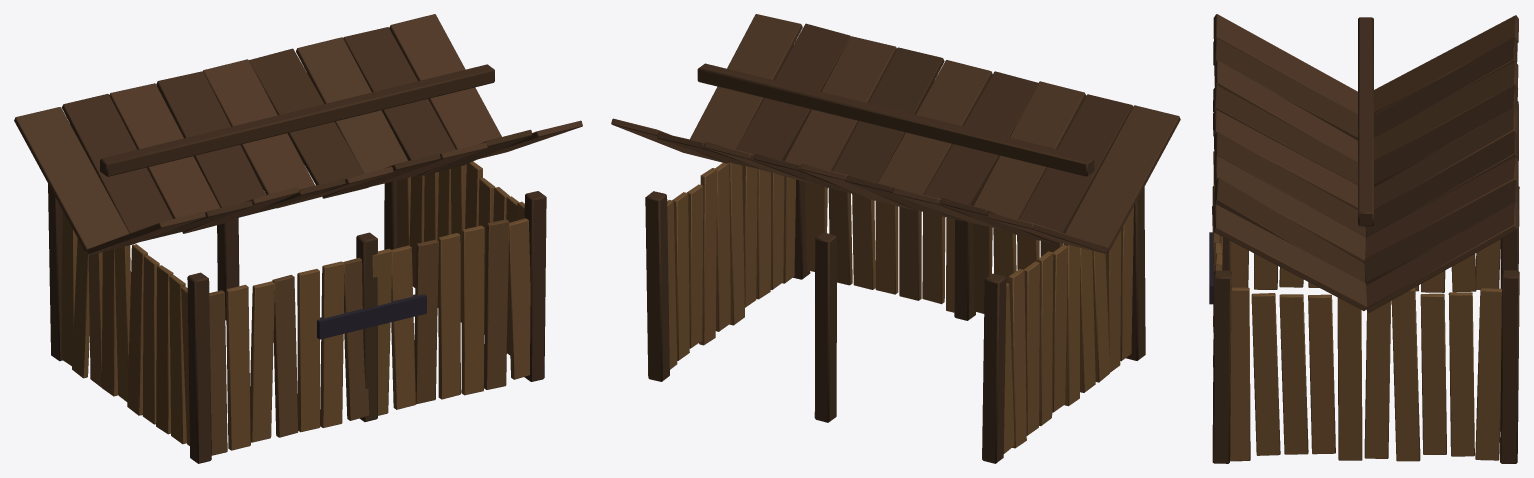
The model's file is castle_hoarding.glb.
The picture shows the model from 3 angles, left to right: view 1: azimuth 30°, elevation 25°; view 2: azimuth 150°, elevation 25°; view 3: azimuth 270°, elevation 25°; orthographic projection. The views are drawn at different scales.
Parts seen in each view (by area): view 1: castle_hoarding; view 2: castle_hoarding; view 3: castle_hoarding.
Part boxes in pixels (x1,y1,x2,y2): castle_hoarding: (14,14,582,463); castle_hoarding: (611,14,1180,463); castle_hoarding: (1209,14,1519,463).
Bounding box in the file's own units: 6.31 × 3.62 × 3.88.
